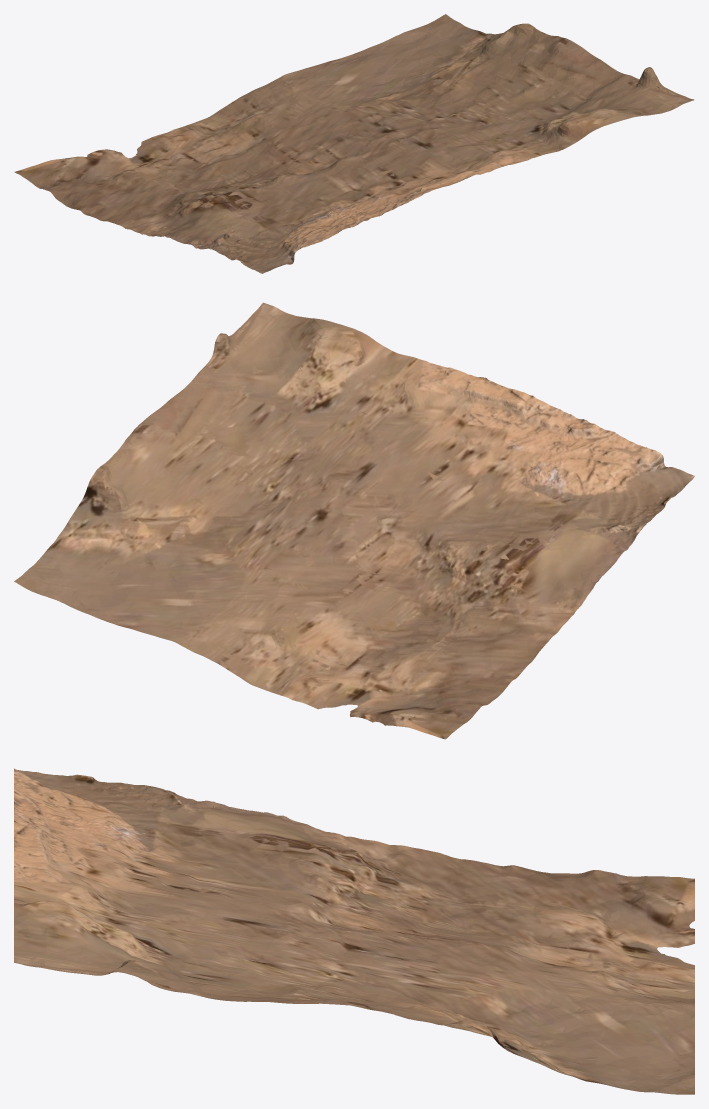
3 renders of one model, top to bottom at view 1: azimuth 30°, elevation 25°; view 2: azimuth 150°, elevation 25°; view 3: azimuth 270°, elevation 25°, orthographic. The views are drawn at different scales.
Bounding box in the file's own units: 2.09 × 0.6961 × 2.09.
2 materials, 2 textured.
